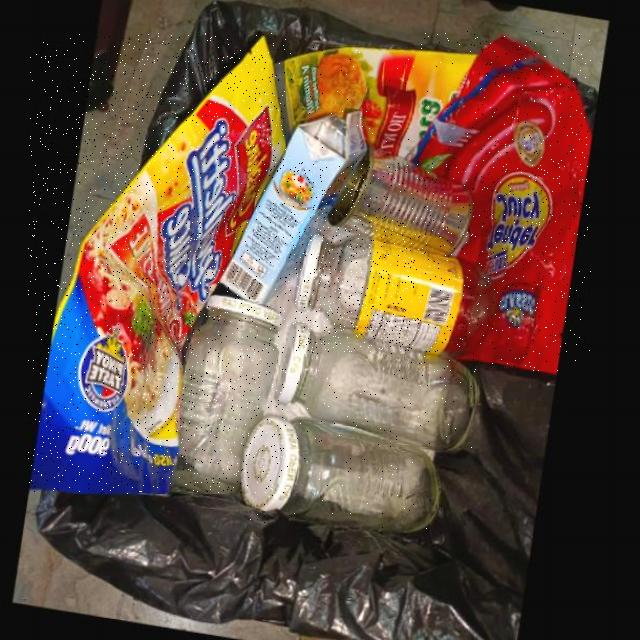glass: (274, 320, 478, 447), (293, 230, 497, 353), (241, 416, 442, 536), (175, 292, 284, 492)
metal: (329, 150, 472, 254)
paper: (219, 109, 365, 301)
wrapper: (29, 33, 286, 493), (414, 31, 591, 370), (282, 46, 478, 161)
